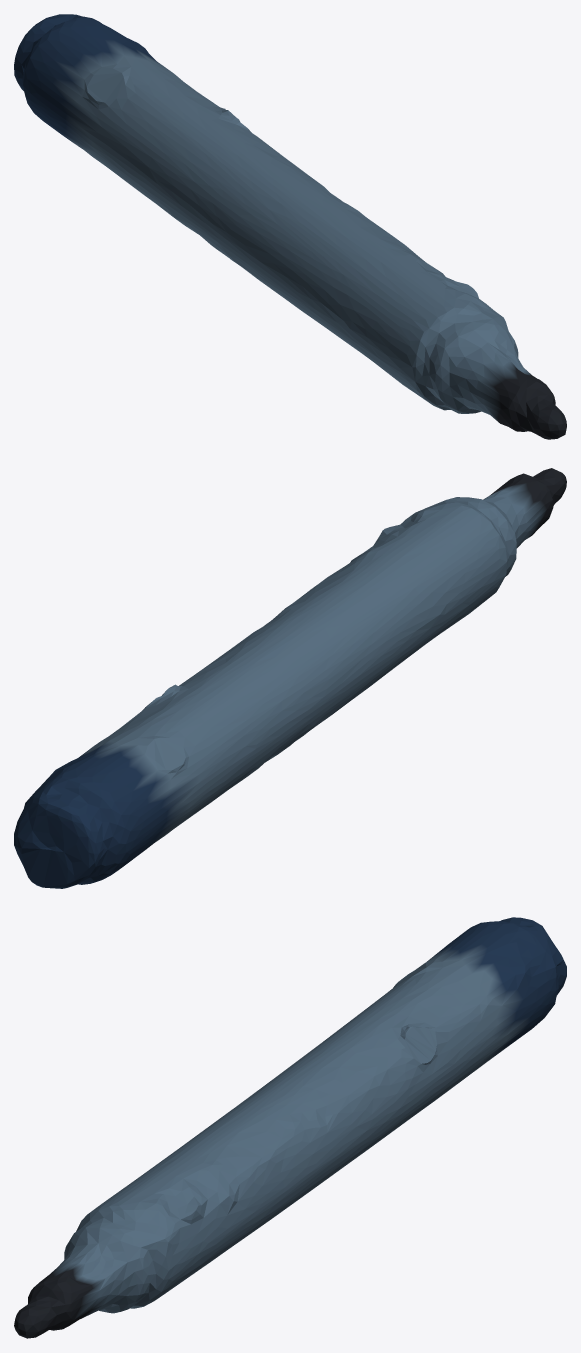
3 renders of one model, top to bottom at view 1: azimuth 30°, elevation 25°; view 2: azimuth 150°, elevation 25°; view 3: azimuth 330°, elevation 25°, orthographic.
Parts seen in each view (by area): view 1: scan.ply; view 2: scan.ply; view 3: scan.ply.
Boxes of the visible parts, box(x1,y1,x2,y2) form: scan.ply: box(14, 14, 566, 439); scan.ply: box(14, 468, 566, 888); scan.ply: box(14, 917, 566, 1338).
Size of the model in its own units: 0.0163 by 0.0169 by 0.1405.
